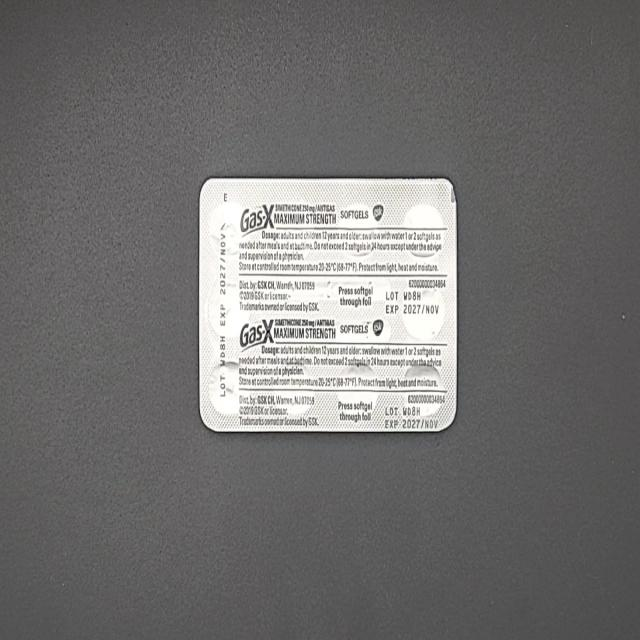no defect: (8, 17, 28, 48)
